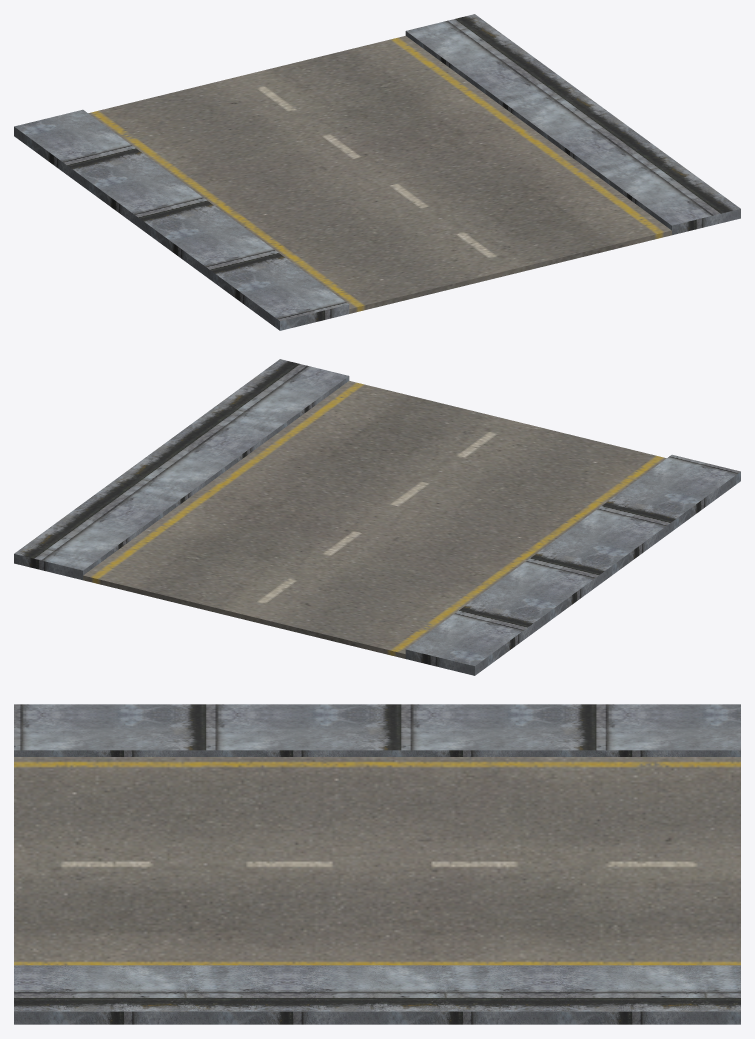
File: Urban_Road1Straight_Model.fbx
3 renders of one model, top to bottom at view 1: azimuth 30°, elevation 25°; view 2: azimuth 150°, elevation 25°; view 3: azimuth 270°, elevation 25°, orthographic. The views are drawn at different scales.
Visible parts, largest first — view 1: Urban_Road1Straight_Mesh; view 2: Urban_Road1Straight_Mesh; view 3: Urban_Road1Straight_Mesh.
Boxes of the visible parts, bbox=[...] form: Urban_Road1Straight_Mesh: bbox=[14, 14, 740, 330]; Urban_Road1Straight_Mesh: bbox=[14, 359, 740, 675]; Urban_Road1Straight_Mesh: bbox=[14, 704, 740, 1024].
Size of the model in its own units: 16 by 0.32 by 16.
